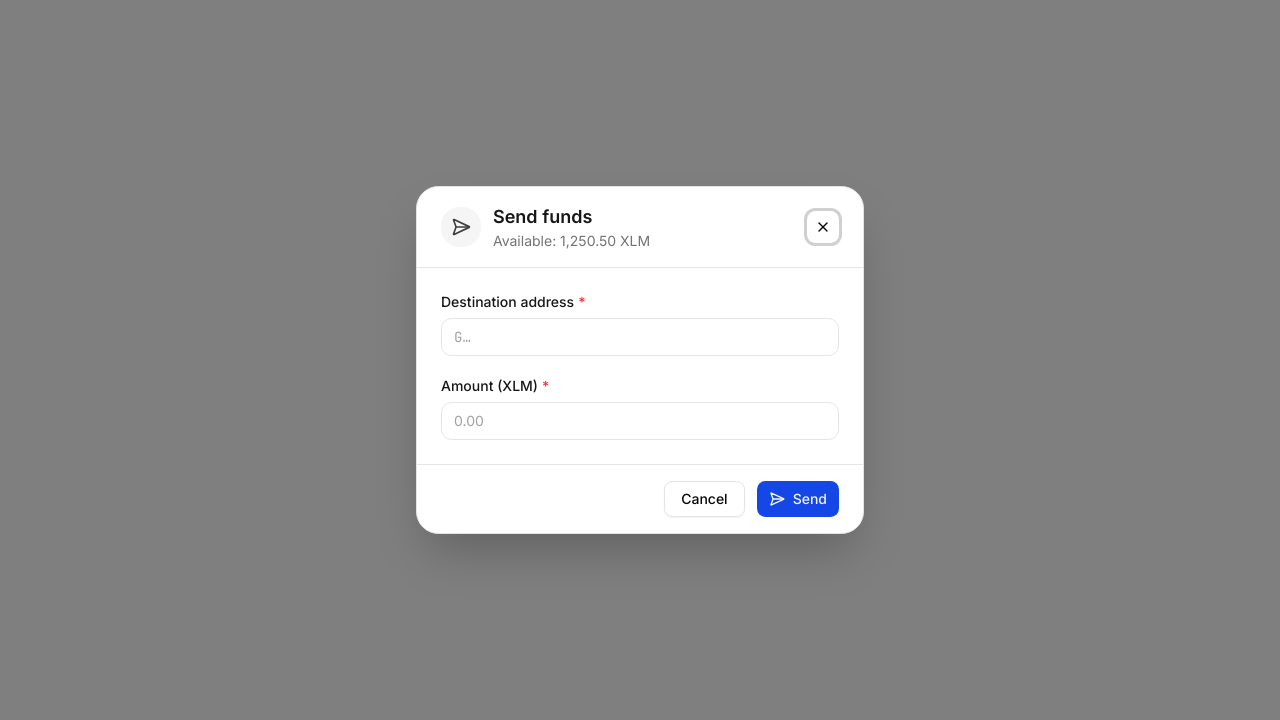
Test: SendWalletModal › amount validation › shows error for zero amount on blur
The image size is (1280, 720).
Type "0" into the number field labelled "Amount (XLM)*" at (640, 421), box [441,402,839,440]
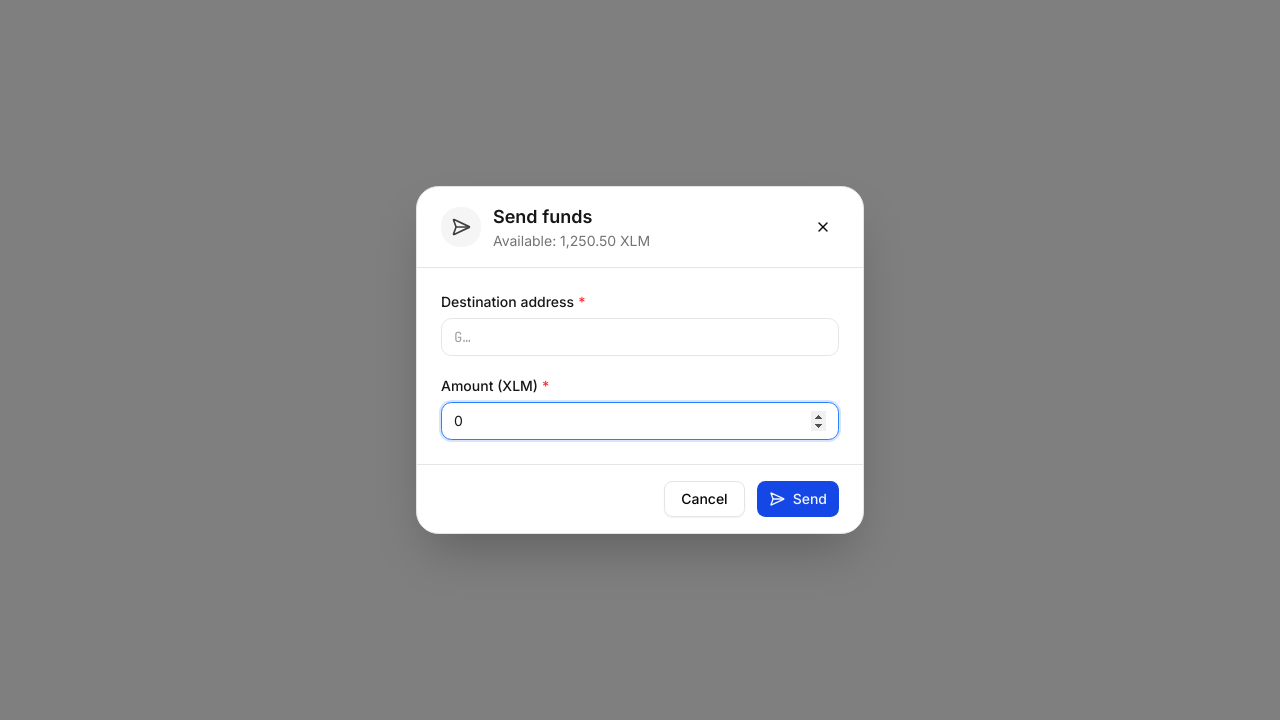
Press Tab
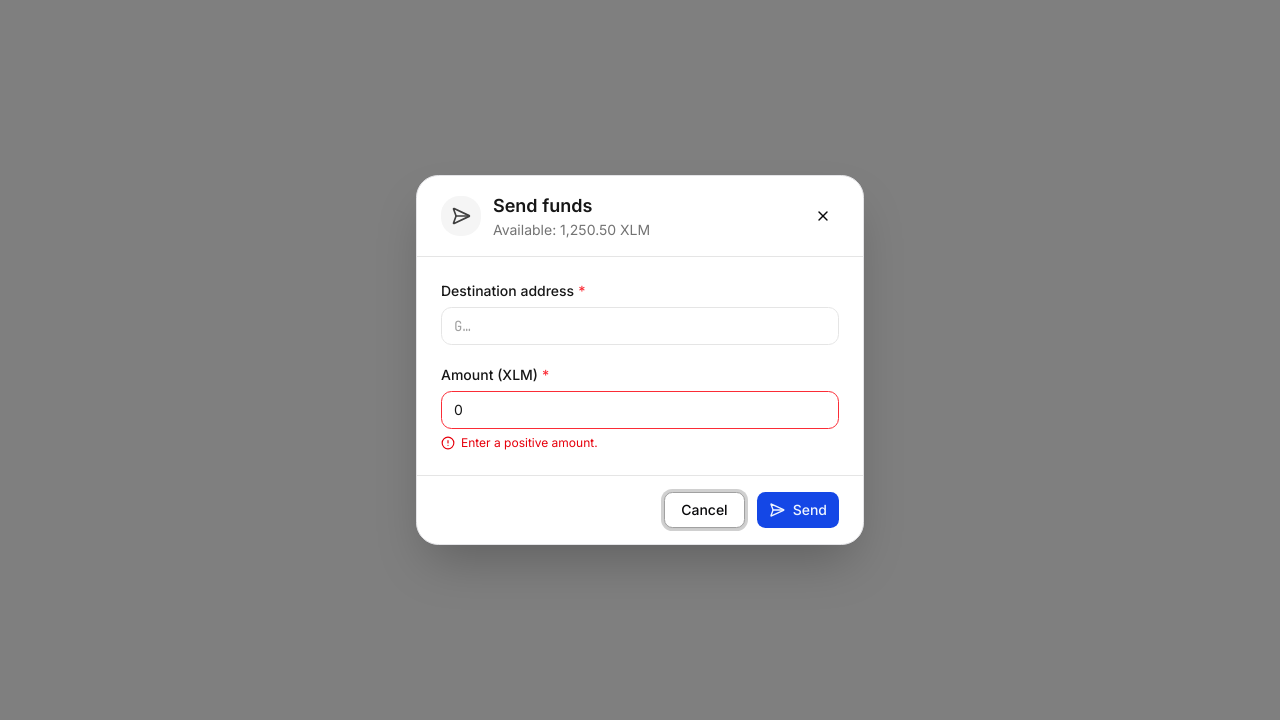
Check: the text "Enter a positive amount." is shown, box [441,435,598,450]
